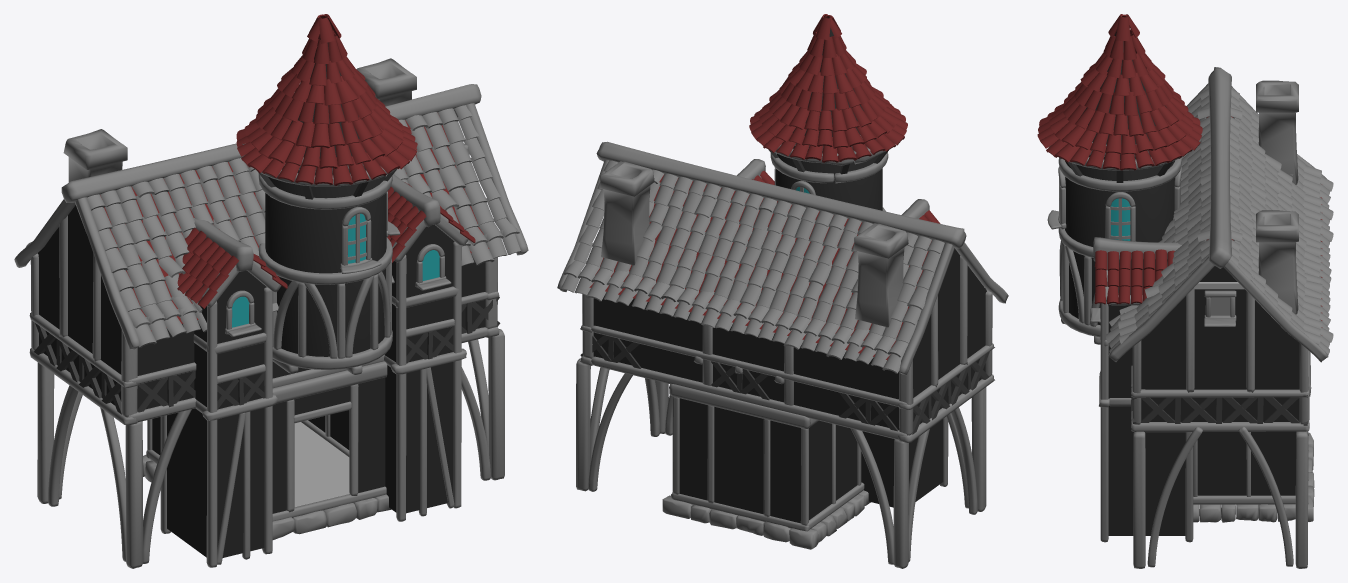
Rendered from SM_house_08.fbx.
The picture shows the model from 3 angles, left to right: view 1: azimuth 30°, elevation 25°; view 2: azimuth 150°, elevation 25°; view 3: azimuth 270°, elevation 25°; orthographic projection. The views are drawn at different scales.
Visible parts, largest first — view 1: Object342743; view 2: Object342743; view 3: Object342743.
Boxes of the visible parts, x1,y1,x2,y2 form: Object342743: (14,14,528,568); Object342743: (557,14,1008,568); Object342743: (1037,14,1333,568).
Size of the model in its own units: 387 by 462 by 263.
